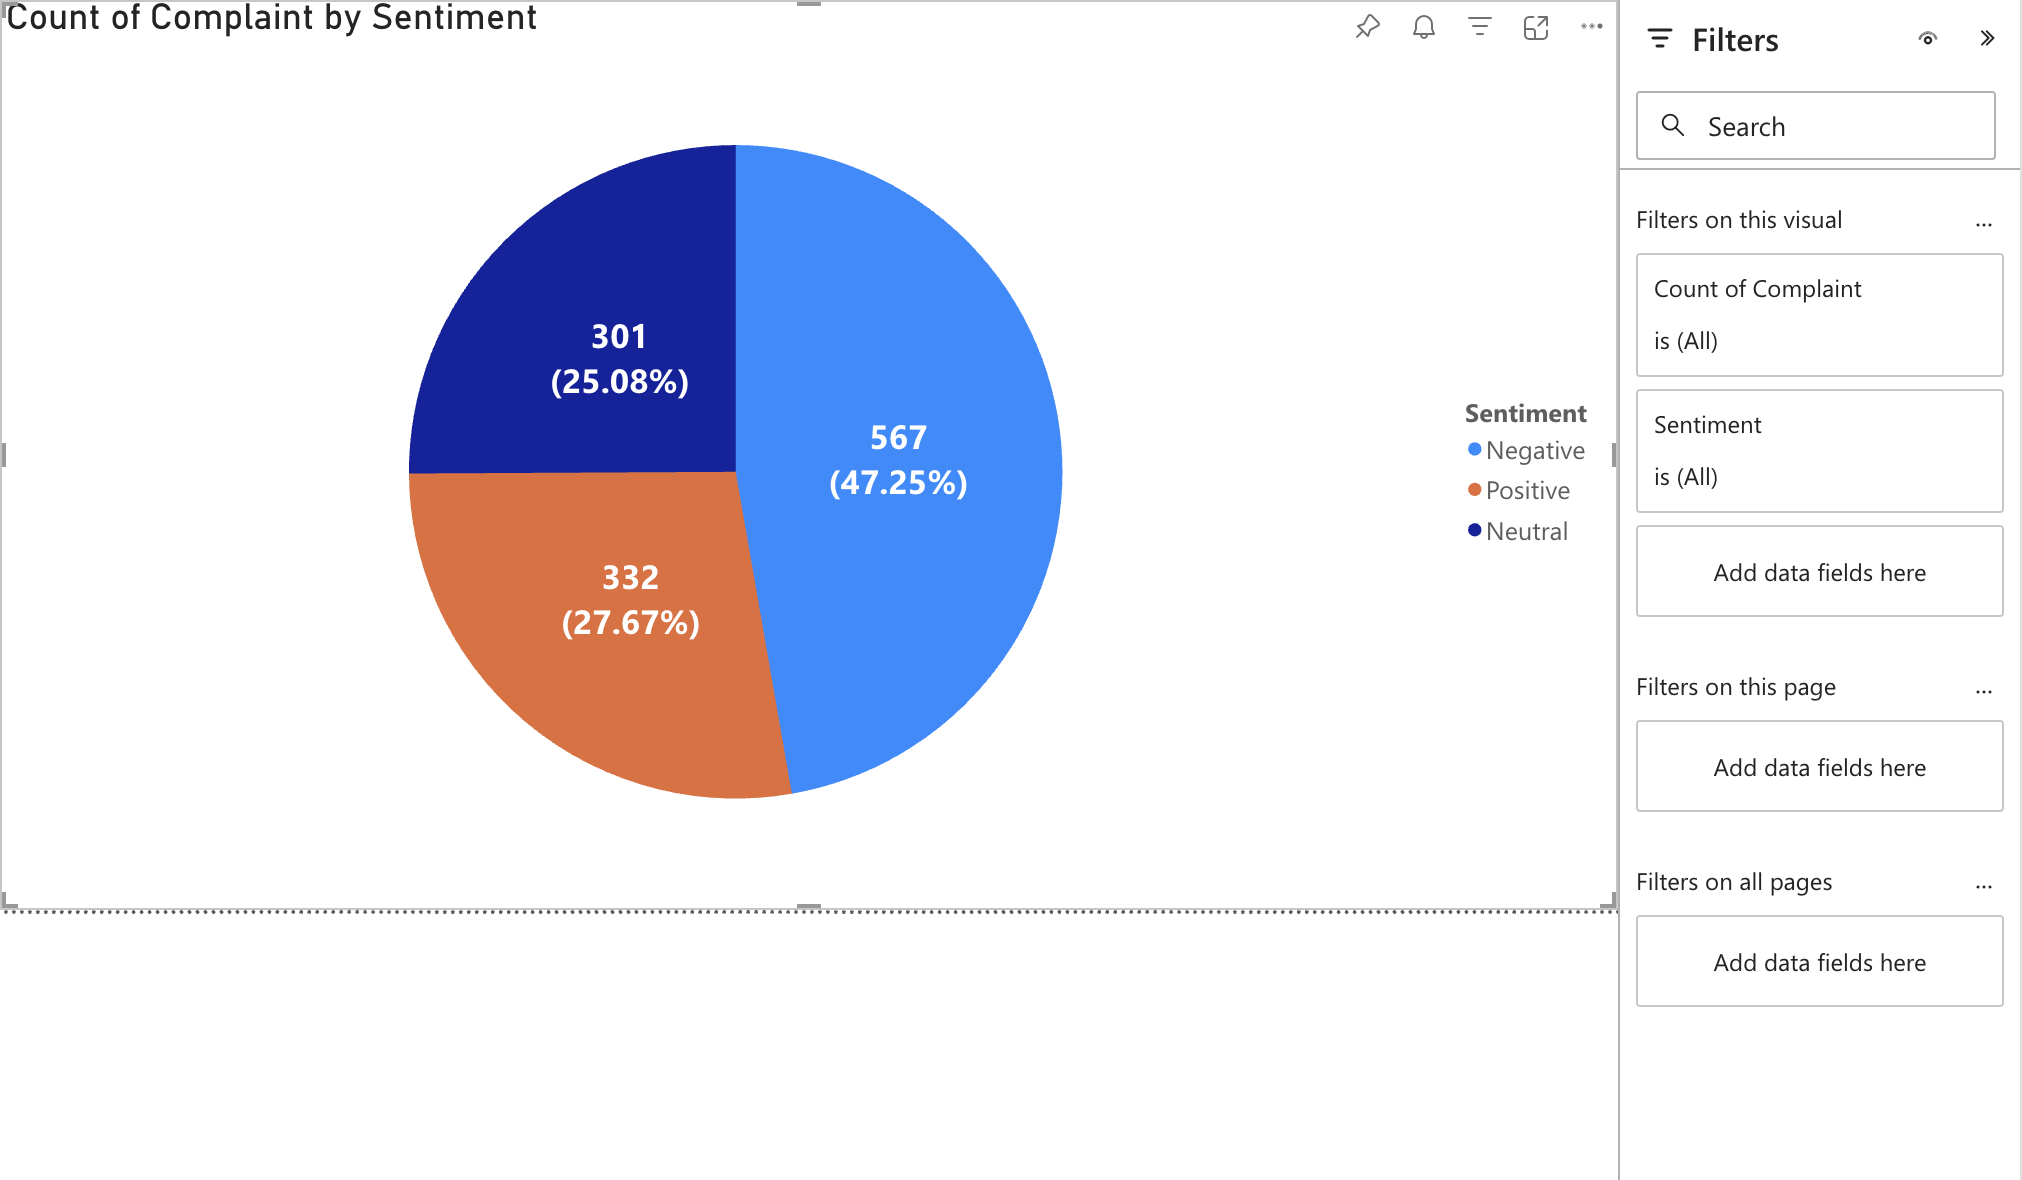

What the dashboard file says about the page in this screenshot:
{"tool":"powerbi","page":{"name":"Pie Chart","canvas":[1280,720],"ordinal":0},"visuals":[{"type":"pieChart","fields":{"Category":["processed_customer_feedback_dataset_for_PowerBI 2.Sentiment"],"Y":["CountNonNull(processed_customer_feedback_dataset_for_PowerBI 2.Complaint)"]},"box":[0,0,1280,720],"z":0}]}

Visuals, with their boxes on the page's 1280x720 design canvas (x1, y1, x2, y2). These are canvas units, not pixel positions in the 2022x1180 screenshot, which may show the page scaled, cropped or inside an application window:
pieChart - processed_customer_feedback_dataset_for_PowerBI 2.Sentiment x CountNonNull(processed_customer_feedback_dataset_for_PowerBI 2.Complaint): region(0, 0, 1280, 720)
